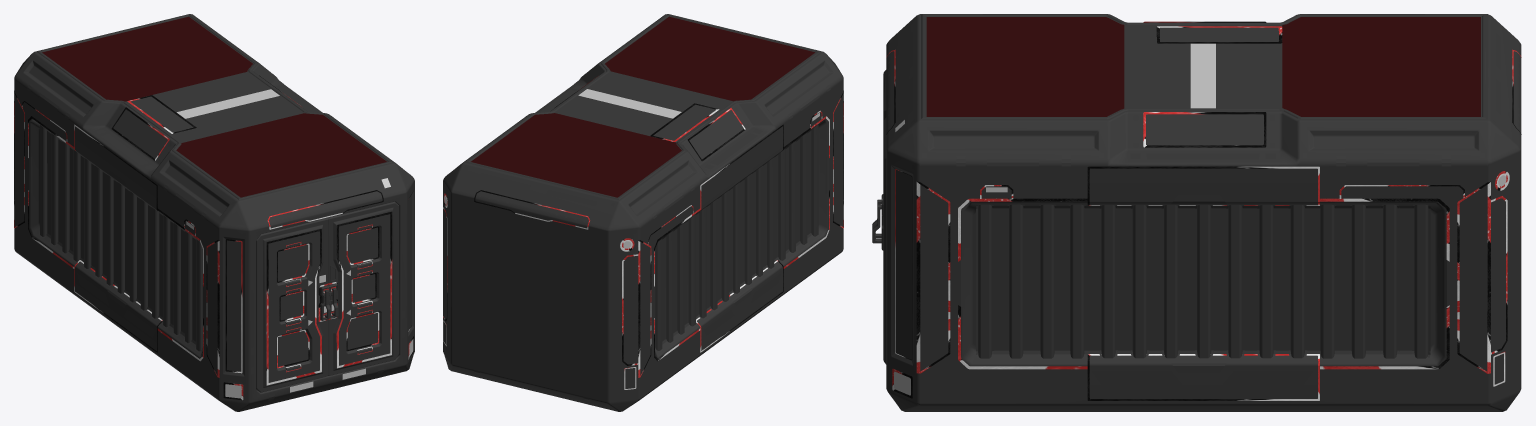
File: SM_Container_01.FBX
3 renders of one model, left to right at view 1: azimuth 30°, elevation 25°; view 2: azimuth 150°, elevation 25°; view 3: azimuth 270°, elevation 25°, orthographic. The views are drawn at different scales.
Parts seen in each view (by area): view 1: SM_Container_LOD0; view 2: SM_Container_LOD0; view 3: SM_Container_LOD0.
Part boxes in pixels (box(x1,y1,x2,y2)): SM_Container_LOD0: box(14, 14, 414, 411); SM_Container_LOD0: box(443, 14, 843, 411); SM_Container_LOD0: box(872, 14, 1521, 411).
Size of what is drawn, in the model's own units: 301 by 613 by 301.
